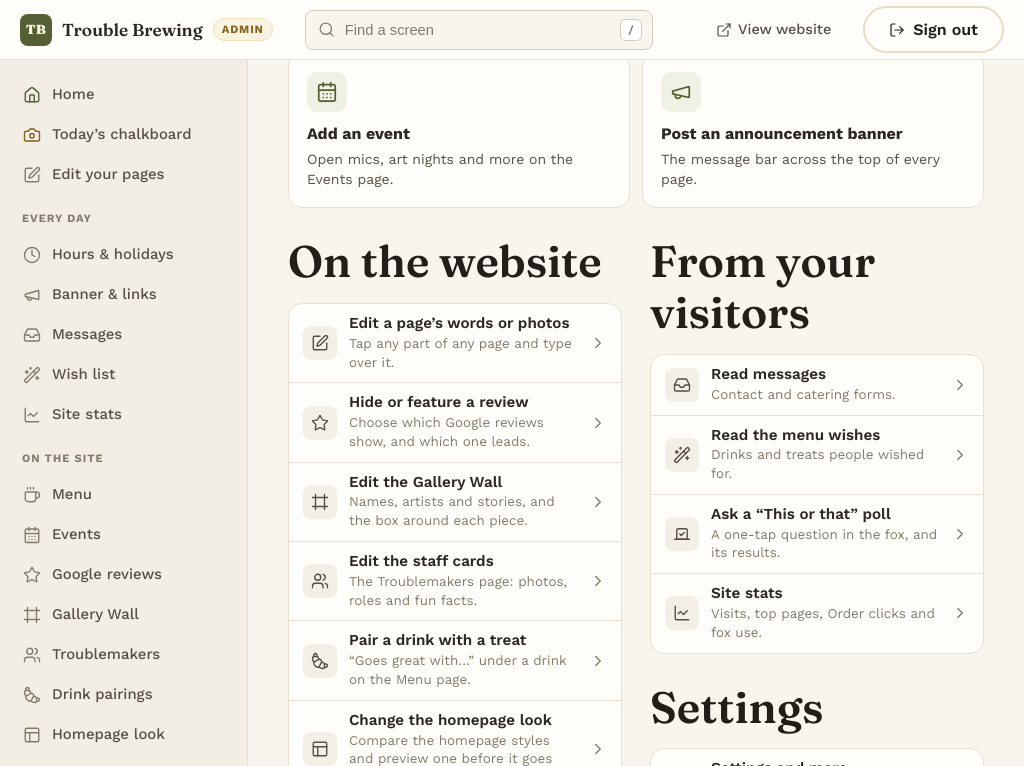
Test: admin home › the "{}" row goes to /admin/inbox and says what it changes
(page scrolled)
Step 1. Click the link "Read messages Contact and catering forms." → [817, 384], box x1=651 y1=354 x2=983 y2=414
(page scrolled)
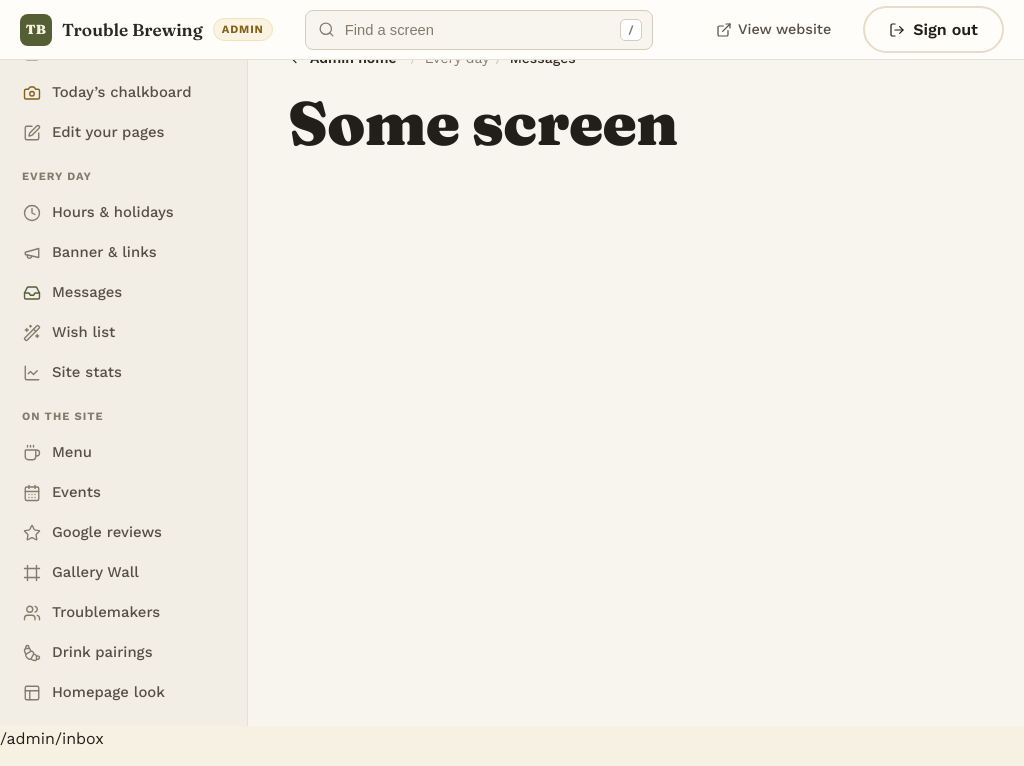
Expected: the text with test id "where" reads "/admin/inbox", x1=0 y1=729 x2=104 y2=748
